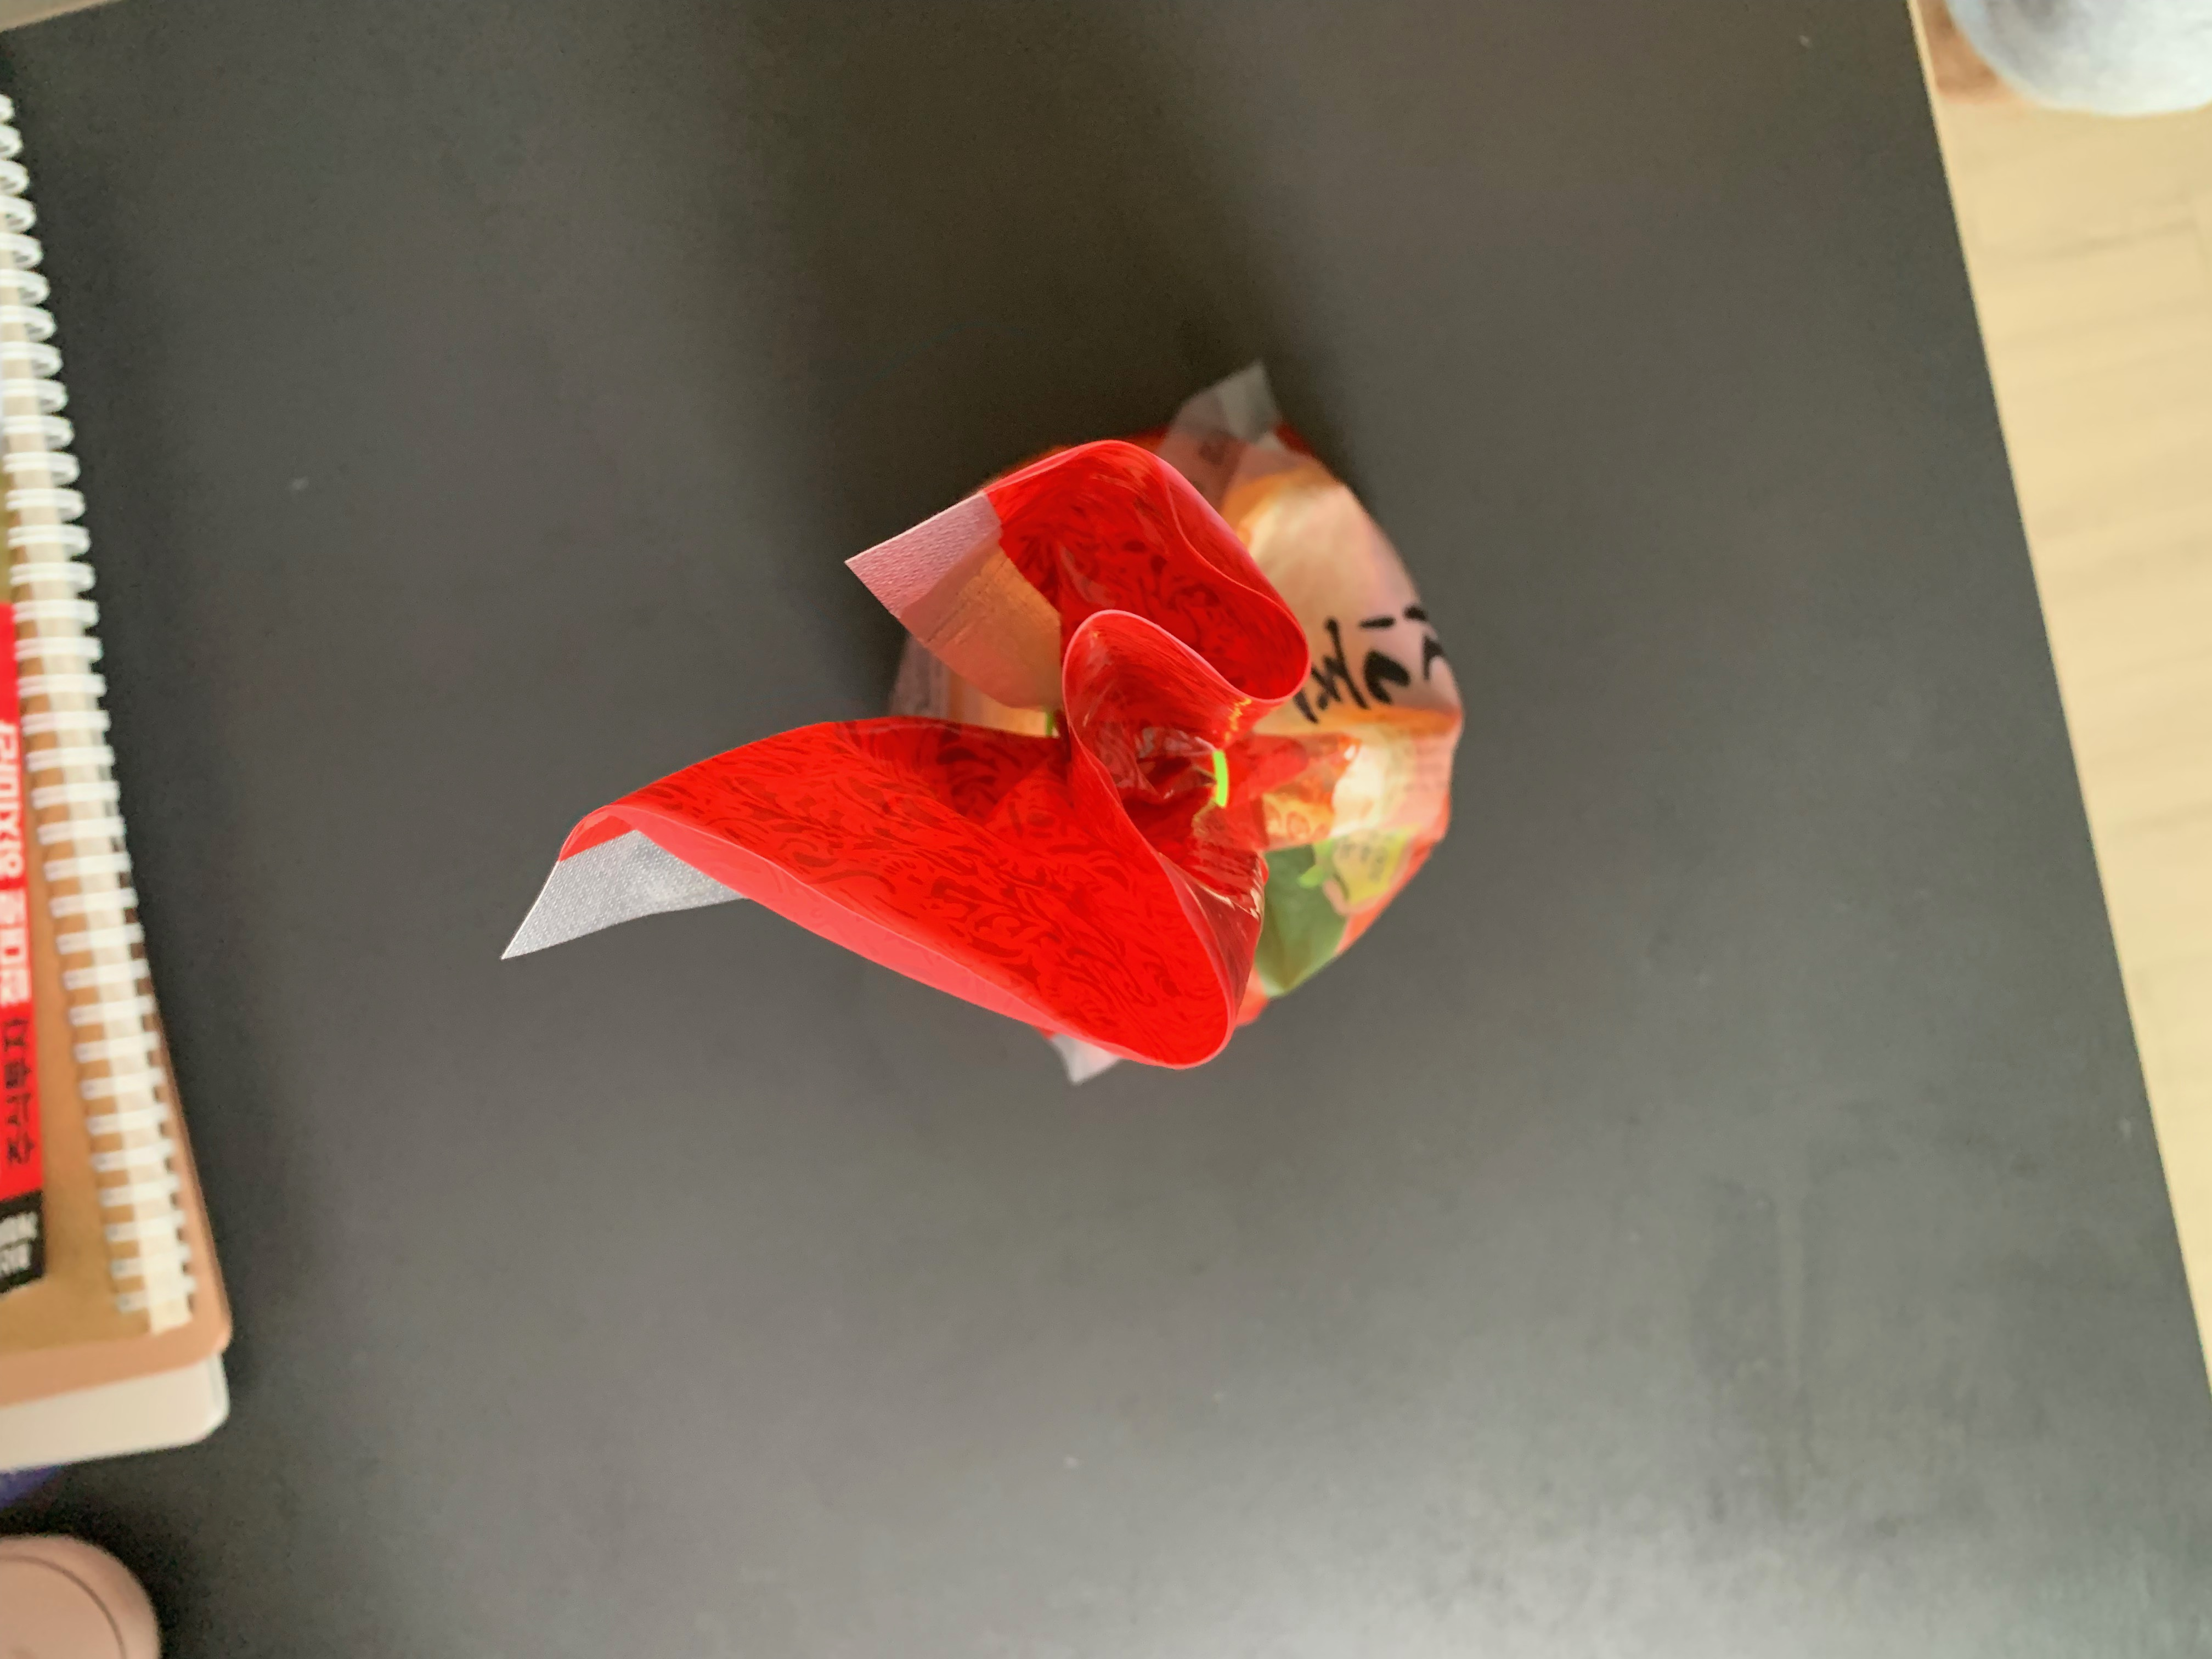kimchi: (618, 430, 1470, 1073)
